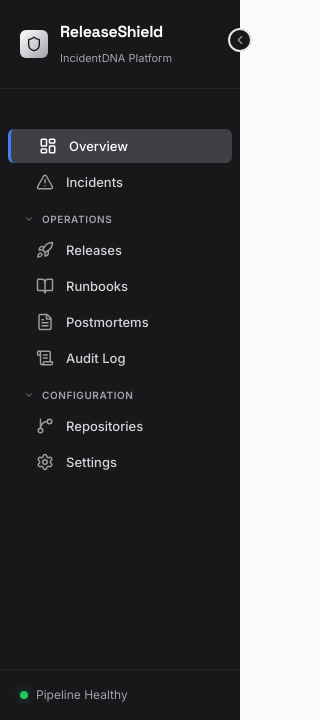
Sidebar Component › collapse button toggles sidebar state
Click the button named "Collapse sidebar".
click(240, 40)  # box [228,28,252,52]
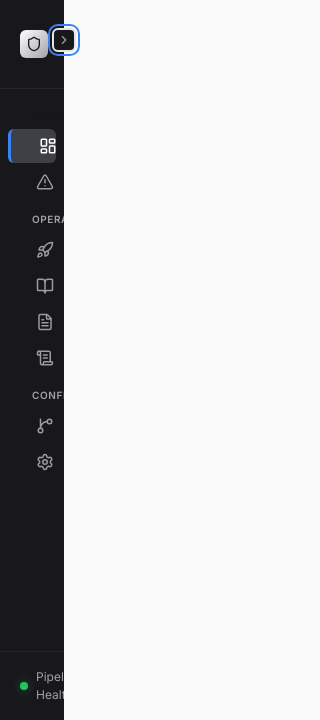
Expected: the button named "Expand sidebar" is shown, [52,28,76,52]
